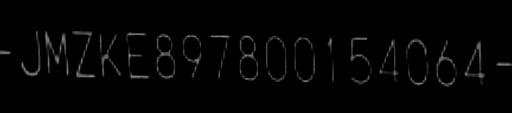letter: (460, 32, 490, 91), (344, 33, 376, 88), (69, 26, 99, 81), (261, 33, 291, 88), (431, 36, 461, 91), (95, 28, 125, 81), (123, 28, 153, 81), (374, 33, 404, 86), (149, 30, 179, 81), (289, 35, 319, 86), (178, 31, 206, 84), (204, 31, 232, 84), (234, 33, 262, 86), (403, 35, 431, 88), (43, 28, 73, 77), (16, 27, 44, 78), (318, 33, 338, 88)
